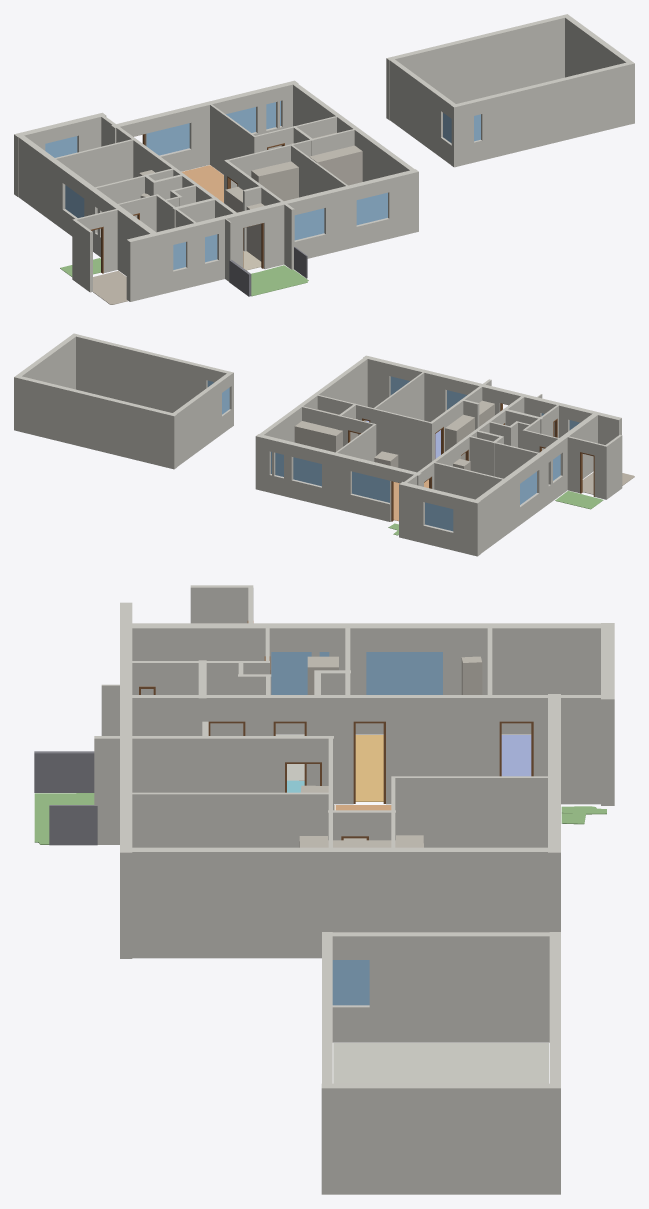
3 views of the same model, one above another, from view 1: azimuth 30°, elevation 25°; view 2: azimuth 150°, elevation 25°; view 3: azimuth 270°, elevation 25° (orthographic). The views are drawn at different scales.
Parts seen in each view (by area): view 1: walls, furniture_1_closet, furniture_6_closet, floor_18_Outdoor, window_3, floor_19_Storage, railings, window_6, floor_2_Living_Room, window_12, furniture_8_closet, window_2 (+2 smaller); view 2: walls, furniture_1_closet, window_3, furniture_7_closet, window_1, window_2, floor_17_Outdoor, window_0; view 3: walls, floor_1_Undefined, railings, window_0, floor_6_Kitchen, window_14, window_16, floor_18_Outdoor, floor_0_Bed_Room, furniture_1_closet, furniture_0_closet.
Boxes of the visible parts, left/top/right/bottom form: walls: left=14, top=14, right=634, bottom=301; furniture_1_closet: left=281, top=132, right=362, bottom=185; furniture_6_closet: left=251, top=161, right=298, bottom=200; floor_18_Outdoor: left=251, top=265, right=308, bottom=296; window_3: left=146, top=123, right=189, bottom=155; floor_19_Storage: left=93, top=270, right=127, bottom=304; railings: left=229, top=247, right=307, bottom=296; window_6: left=356, top=192, right=387, bottom=225; floor_2_Living_Room: left=182, top=165, right=223, bottom=202; window_12: left=294, top=208, right=324, bottom=240; furniture_8_closet: left=246, top=203, right=264, bottom=261; window_2: left=45, top=136, right=77, bottom=157; walls: left=14, top=333, right=622, bottom=556; furniture_1_closet: left=294, top=409, right=366, bottom=452; window_3: left=352, top=471, right=389, bottom=502; furniture_7_closet: left=445, top=414, right=474, bottom=459; window_1: left=293, top=457, right=321, bottom=486; window_2: left=425, top=502, right=453, bottom=531; floor_17_Outdoor: left=555, top=491, right=603, bottom=509; window_0: left=520, top=471, right=536, bottom=504; walls: left=94, top=585, right=614, bottom=1194; floor_1_Undefined: left=333, top=1043, right=548, bottom=1083; railings: left=34, top=751, right=97, bottom=845; window_0: left=366, top=652, right=442, bottom=694; floor_6_Kitchen: left=355, top=735, right=383, bottom=801; window_14: left=332, top=960, right=369, bottom=1005; window_16: left=271, top=652, right=311, bottom=694; floor_18_Outdoor: left=34, top=793, right=94, bottom=844; floor_0_Bed_Room: left=501, top=735, right=531, bottom=776; furniture_1_closet: left=299, top=835, right=423, bottom=847; furniture_0_closet: left=461, top=656, right=482, bottom=694.
Size of the model in its own units: 27.4 by 2.72 by 13.35.
